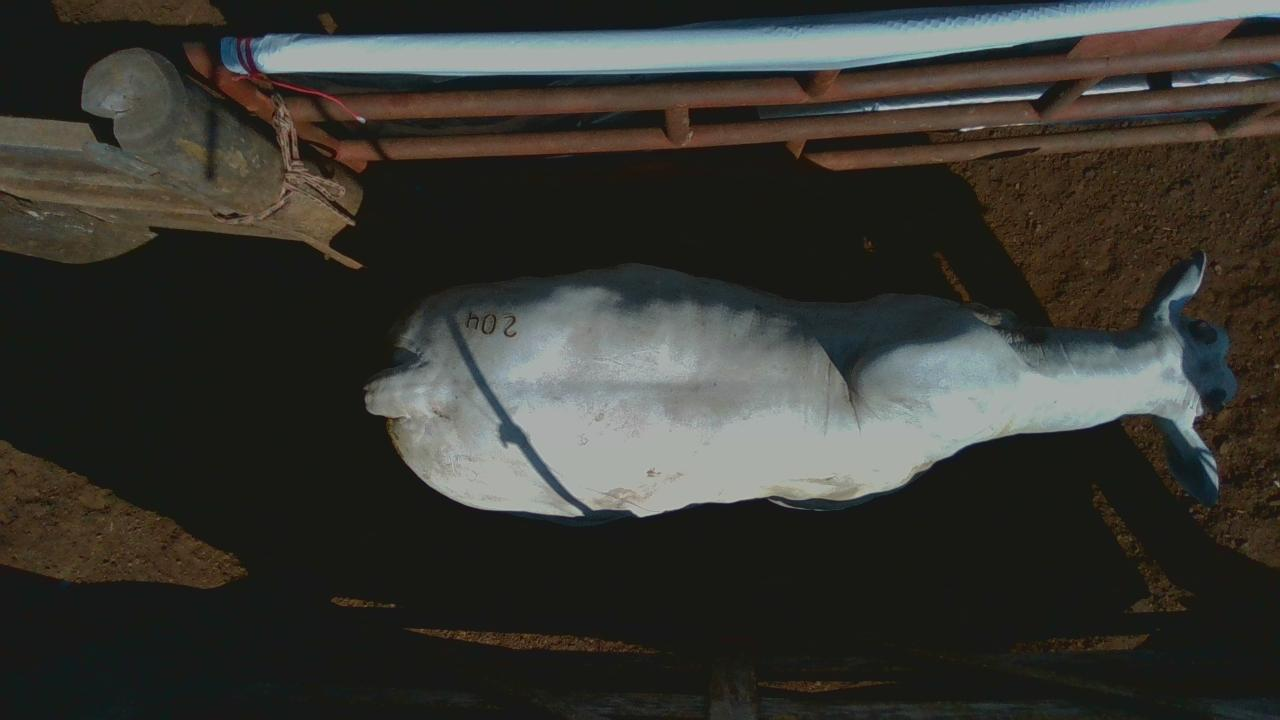cattle: (362, 248, 1238, 525)
